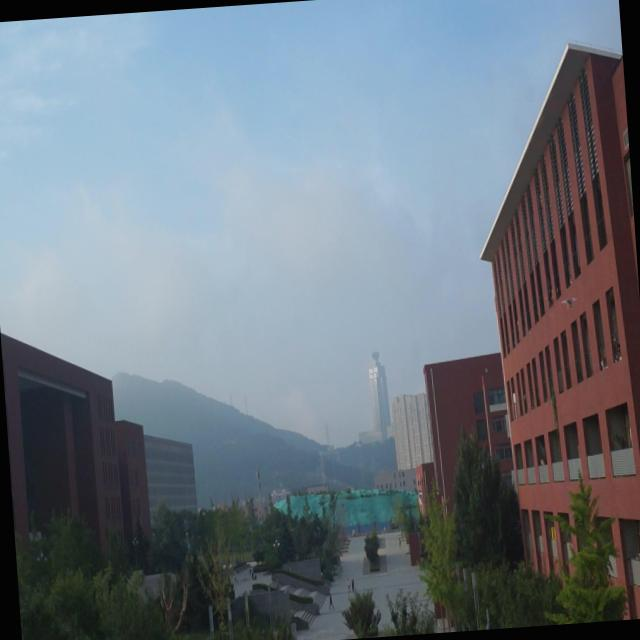drone: (560, 292, 580, 313)
